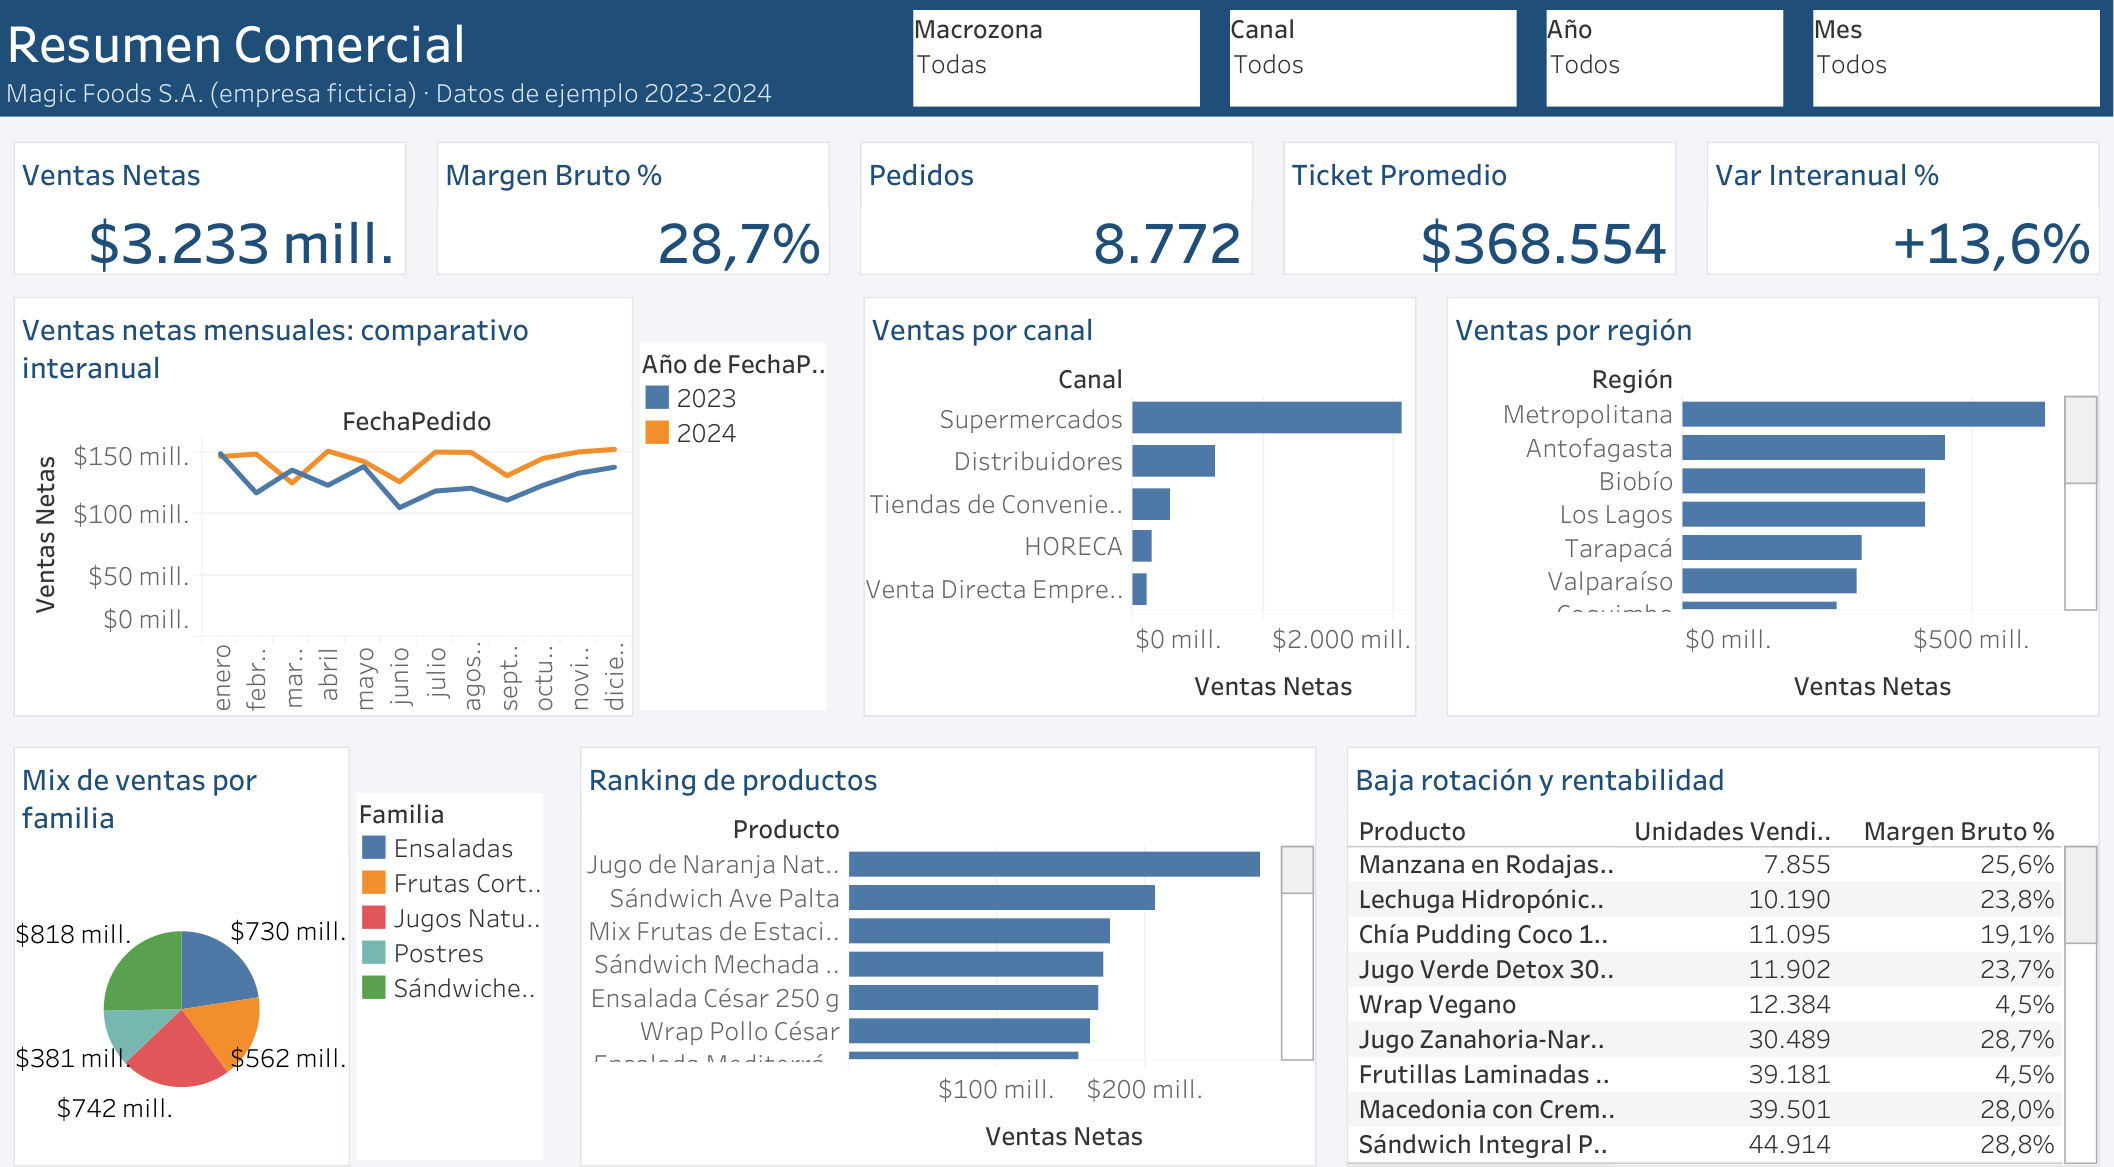

What the dashboard file says about the page in this screenshot:
{"tool":"tableau","page":{"name":"Resumen Comercial","canvas":[1280,720],"ordinal":0},"visuals":[{"type":"text","box":[0,0,1280,82]},{"type":"parameter","param":"[Parameters].[pMacro]","box":[550,8,180,66]},{"type":"parameter","param":"[Parameters].[pCanal]","box":[740,8,180,66]},{"type":"parameter","param":"[Parameters].[pAnio]","box":[930,8,150,66]},{"type":"parameter","param":"[Parameters].[pMes]","box":[1090,8,180,66]},{"type":"worksheet","title":"C · Ventas Netas","mark":"Text","box":[10,87,244,88]},{"type":"worksheet","title":"C · Margen Bruto","mark":"Text","box":[264,87,244,88]},{"type":"worksheet","title":"C · Pedidos","mark":"Text","box":[518,87,244,88]},{"type":"worksheet","title":"C · Ticket","mark":"Text","box":[772,87,244,88]},{"type":"worksheet","title":"C · Var Interanual","mark":"Text","box":[1026,87,244,88]},{"type":"worksheet","title":"C · Ventas Mensuales","mark":"Line","rows":["Ventas"],"cols":["FechaPedido"],"box":[10,180,380,260]},{"type":"worksheet","title":"C · Ventas por Canal","mark":"Bar","rows":["Canal"],"cols":["Ventas"],"box":[520,180,340,260]},{"type":"worksheet","title":"C · Ventas por Region","mark":"Bar","rows":["Region"],"cols":["Ventas"],"box":[870,180,400,260]},{"type":"legend","title":"C · Ventas Mensuales","param":"[federated.adcc30327981bffd4f2f27d482e5].[yr:FechaPedido:ok]","box":[390,212,112,220]},{"type":"worksheet","title":"C · Mix Familia","mark":"Pie","box":[10,450,210,260]},{"type":"worksheet","title":"C · Ranking Productos","mark":"Bar","rows":["Producto"],"cols":["Ventas"],"box":[350,450,450,260]},{"type":"worksheet","title":"C · Baja Rotacion","mark":"Text","rows":["Producto"],"box":[810,450,460,260]},{"type":"legend","title":"C · Mix Familia","param":"[federated.adcc30327981bffd4f2f27d482e5].[none:Familia:nk]","box":[220,482,112,220]}]}

Visuals, with their boxes in screenshot pixels (x1, y1, x2, y2), scaled from the page's 1280x720 canvas onto the 2114x1167 screenshot:
text: {"left": 0, "top": 0, "right": 2113, "bottom": 133}
parameter: {"left": 908, "top": 13, "right": 1206, "bottom": 120}
parameter: {"left": 1222, "top": 13, "right": 1519, "bottom": 120}
parameter: {"left": 1536, "top": 13, "right": 1784, "bottom": 120}
parameter: {"left": 1800, "top": 13, "right": 2097, "bottom": 120}
"C · Ventas Netas" worksheet (Text marks): {"left": 17, "top": 141, "right": 419, "bottom": 284}
"C · Margen Bruto" worksheet (Text marks): {"left": 436, "top": 141, "right": 839, "bottom": 284}
"C · Pedidos" worksheet (Text marks): {"left": 856, "top": 141, "right": 1258, "bottom": 284}
"C · Ticket" worksheet (Text marks): {"left": 1275, "top": 141, "right": 1678, "bottom": 284}
"C · Var Interanual" worksheet (Text marks): {"left": 1695, "top": 141, "right": 2097, "bottom": 284}
"C · Ventas Mensuales" worksheet (Line marks): {"left": 17, "top": 292, "right": 644, "bottom": 713}
"C · Ventas por Canal" worksheet (Bar marks): {"left": 859, "top": 292, "right": 1420, "bottom": 713}
"C · Ventas por Region" worksheet (Bar marks): {"left": 1437, "top": 292, "right": 2097, "bottom": 713}
"C · Ventas Mensuales" legend: {"left": 644, "top": 344, "right": 829, "bottom": 700}
"C · Mix Familia" worksheet (Pie marks): {"left": 17, "top": 729, "right": 363, "bottom": 1151}
"C · Ranking Productos" worksheet (Bar marks): {"left": 578, "top": 729, "right": 1321, "bottom": 1151}
"C · Baja Rotacion" worksheet (Text marks): {"left": 1338, "top": 729, "right": 2097, "bottom": 1151}
"C · Mix Familia" legend: {"left": 363, "top": 781, "right": 548, "bottom": 1138}
